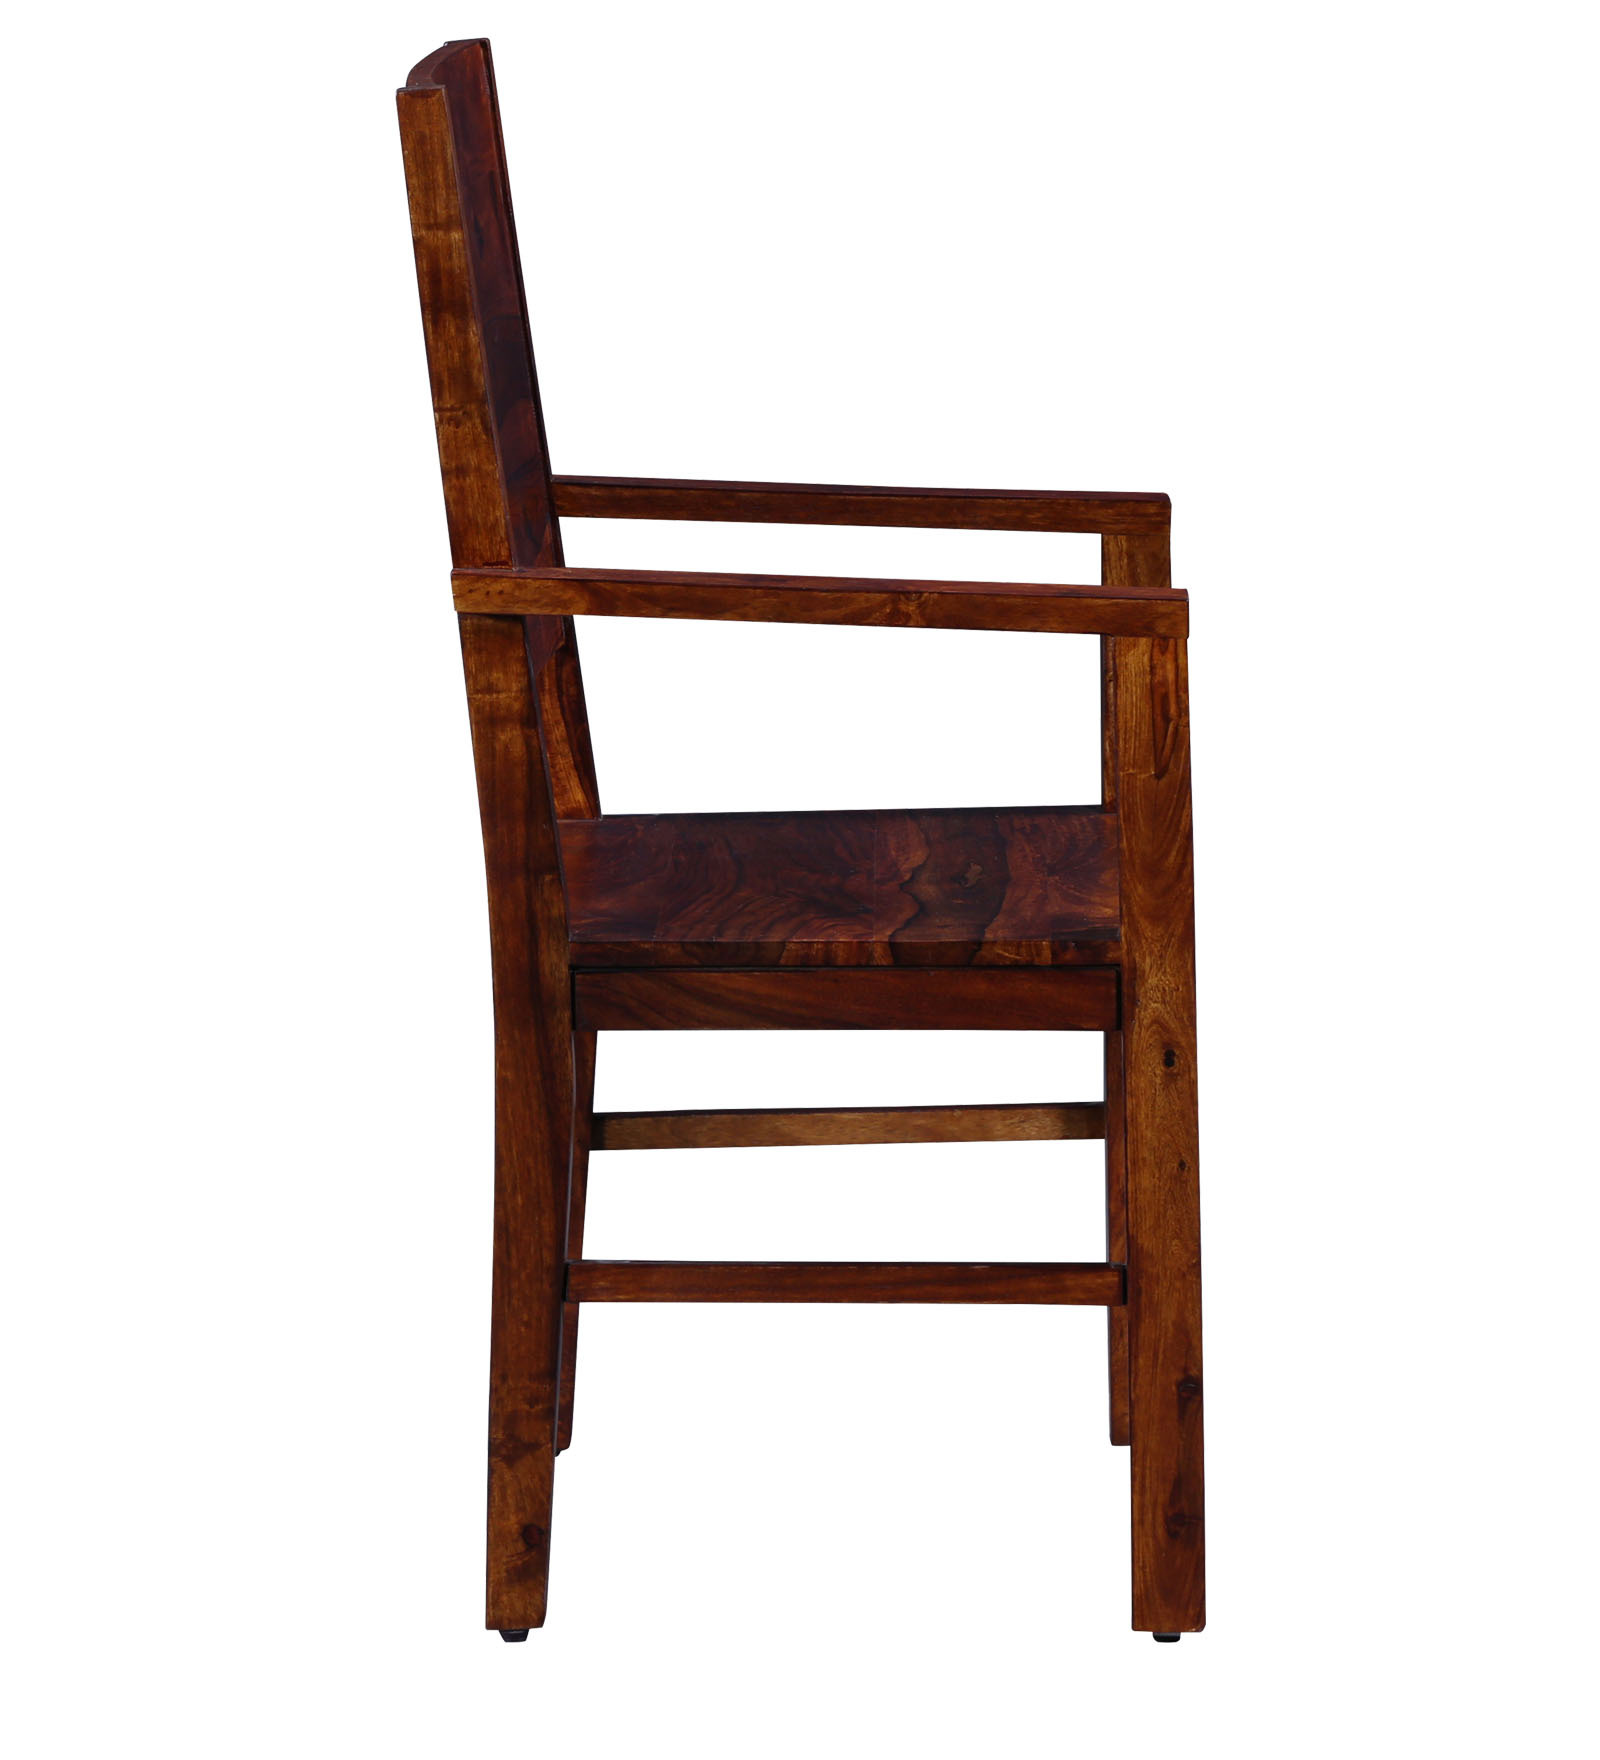Oriel Arm Chair in Honey oak Finish by Woodsworth: (380, 28, 1225, 1643)
